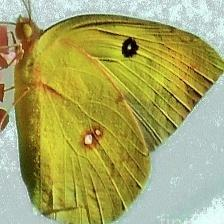butterfly: (15, 15, 224, 224)
